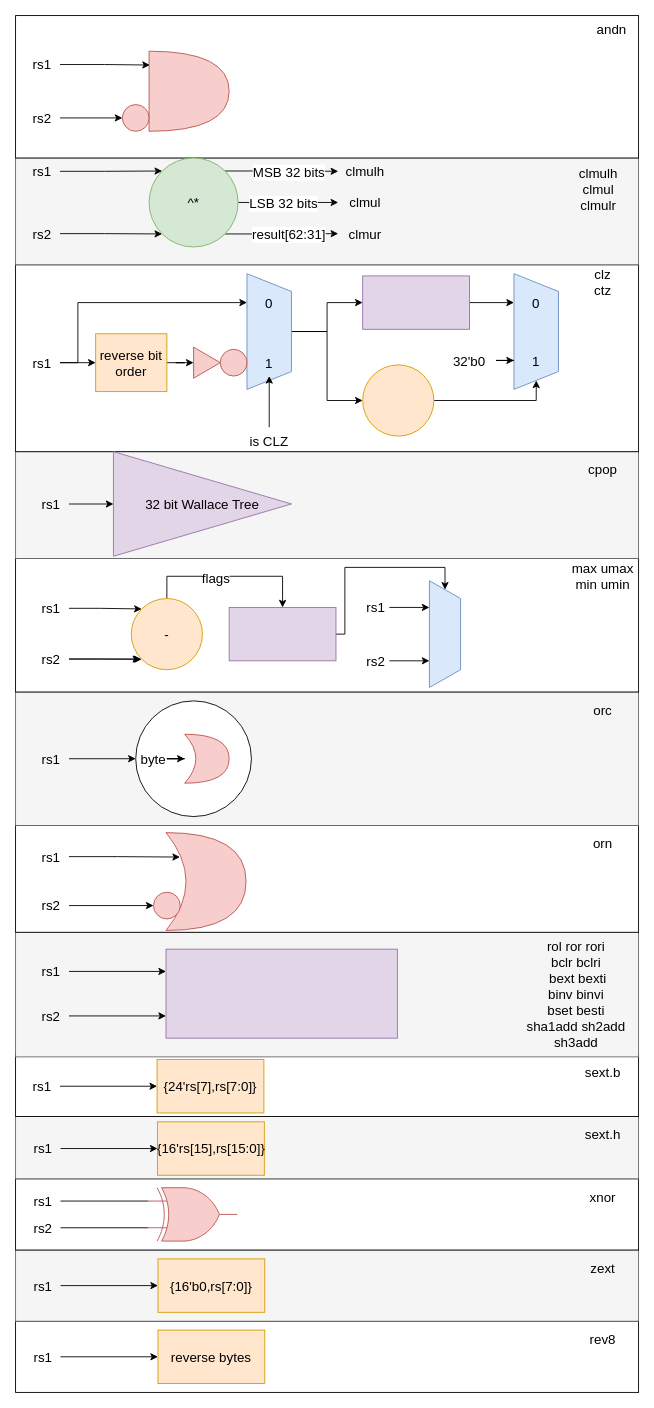
The diagram is 654 pixels wide and 1408 high, and some of its shapes have lost their labels. Each missing label, with the box of its shape:
compare: (228, 607, 336, 661)
is zero: (362, 364, 434, 436)
Priority Encoder: (362, 275, 469, 329)
Rotate sh(i)add, single bit manipulation unit: (165, 948, 397, 1038)
